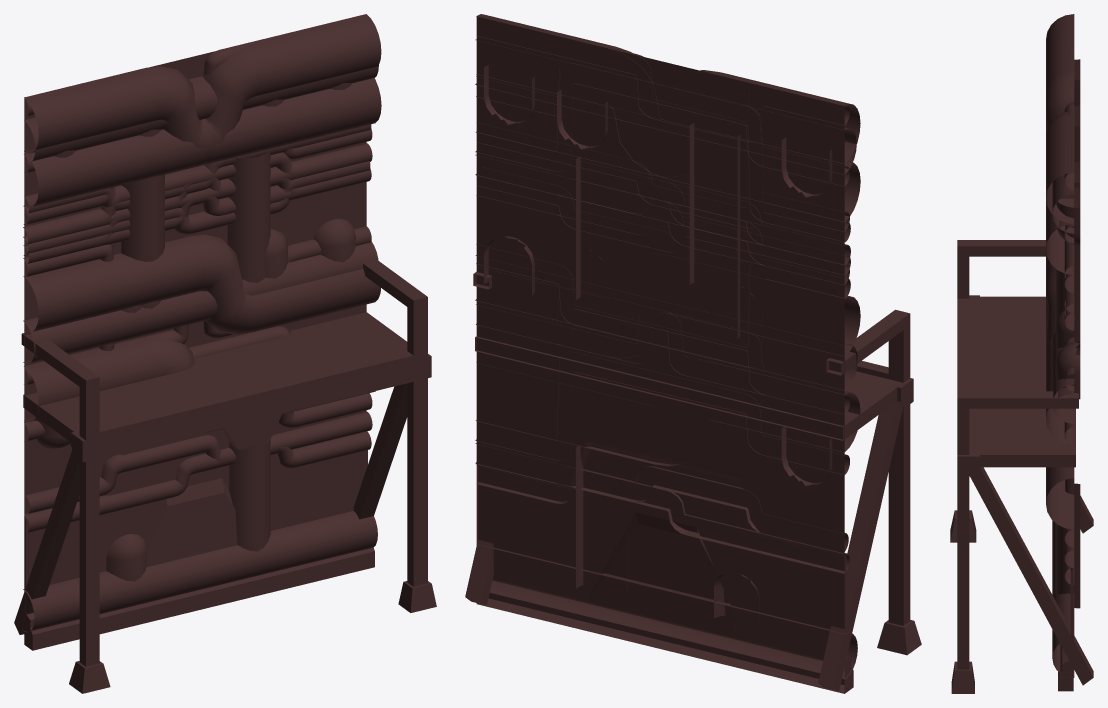
File: Anger_Wall_A.fbx
3 renders of one model, left to right at view 1: azimuth 30°, elevation 25°; view 2: azimuth 150°, elevation 25°; view 3: azimuth 270°, elevation 25°, orthographic. The views are drawn at different scales.
Parts seen in each view (by area): view 1: Platform, Pipes_B, Wall, Pipes_C, Pipes_A, Pipes_D; view 2: Wall, Platform, Pipes_B, Pipes_A, Pipes_C, Pipes_D; view 3: Platform, Pipes_C, Pipes_A, Pipes_B, Pipes_D, Wall.
Boxes of the visible parts, x1,y1,x2,y2 form: Platform: (14, 260, 436, 693); Pipes_B: (23, 326, 377, 632); Wall: (24, 50, 374, 650); Pipes_C: (23, 66, 381, 384); Pipes_A: (23, 14, 380, 334); Pipes_D: (23, 14, 381, 385); Wall: (476, 16, 853, 693); Platform: (465, 272, 921, 691); Pipes_B: (475, 351, 860, 679); Pipes_A: (475, 15, 860, 367); Pipes_C: (475, 63, 860, 412); Pipes_D: (475, 14, 860, 414); Platform: (950, 240, 1093, 693); Pipes_C: (1046, 14, 1080, 444); Pipes_A: (1046, 14, 1080, 444); Pipes_B: (1046, 300, 1080, 677); Pipes_D: (1046, 112, 1080, 442); Wall: (1058, 568, 1073, 691).
Bounding box in the file's own units: 441 × 648 × 162.
